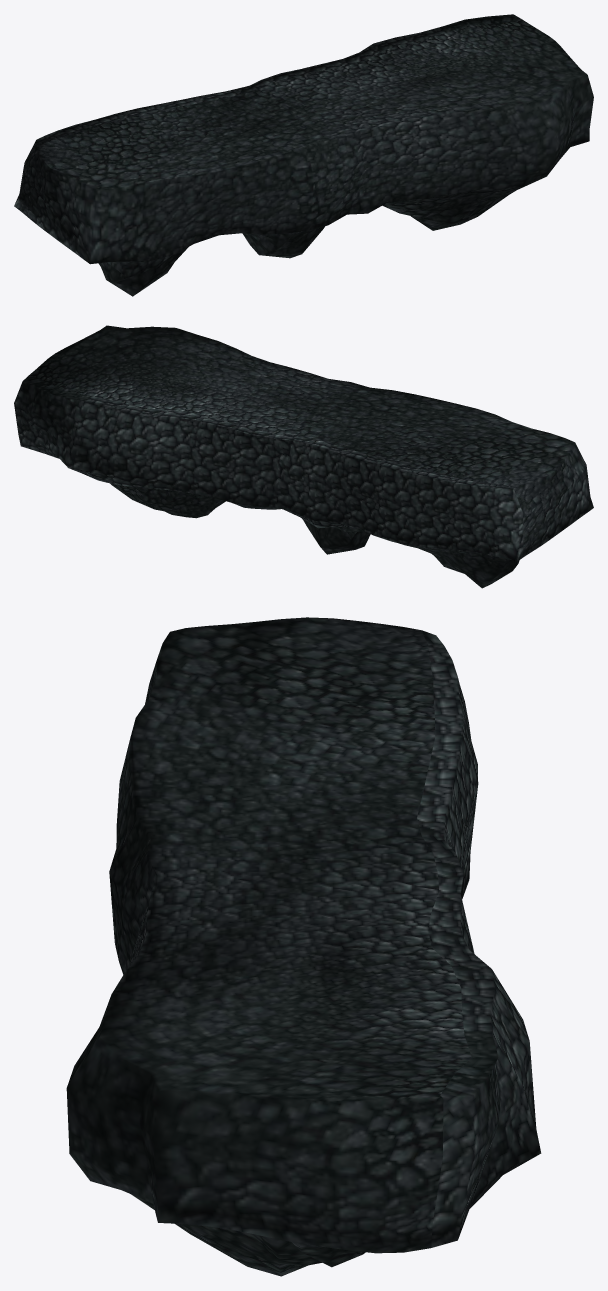
3 renders of one model, top to bottom at view 1: azimuth 30°, elevation 25°; view 2: azimuth 150°, elevation 25°; view 3: azimuth 270°, elevation 25°, orthographic. The views are drawn at different scales.
Visible parts, largest first — view 1: Straight_Piece_B; view 2: Straight_Piece_B; view 3: Straight_Piece_B.
Boxes of the visible parts, x1,y1,x2,y2 form: Straight_Piece_B: (14, 14, 593, 296); Straight_Piece_B: (14, 325, 593, 588); Straight_Piece_B: (66, 617, 541, 1276).
Bounding box in the file's own units: 516 × 136 × 206.
